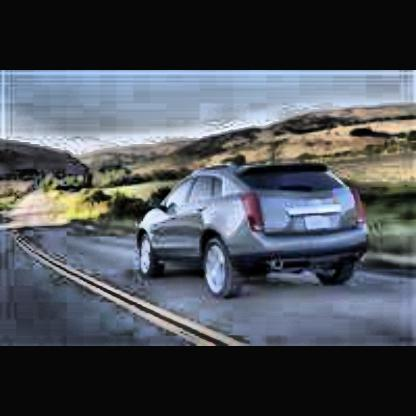Cadillac SRX SUV 2012: (140, 162, 375, 305)
